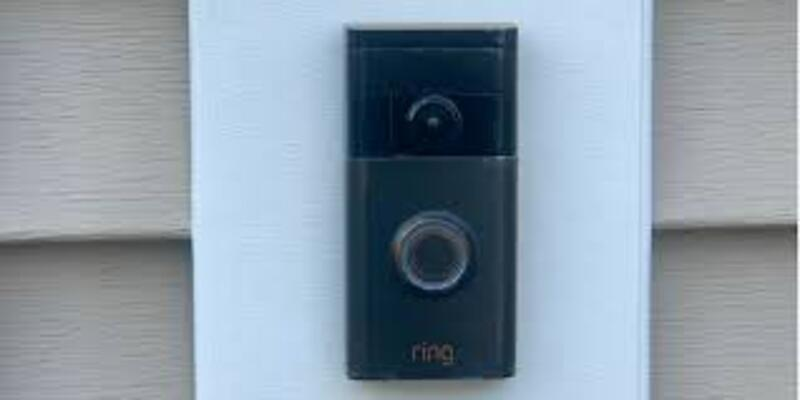doorbell: (330, 19, 531, 386)
